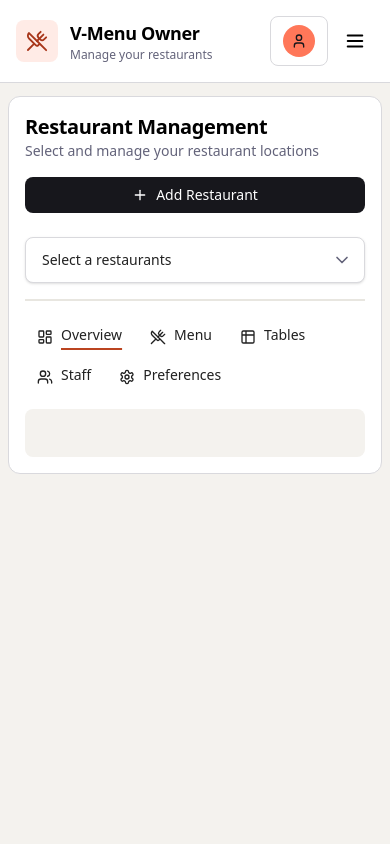
Test: the owner header (VM-20) › the phone menu shows the real name too
Click the button named "Open the menu": (355, 41) x1=336 y1=22 x2=374 y2=60
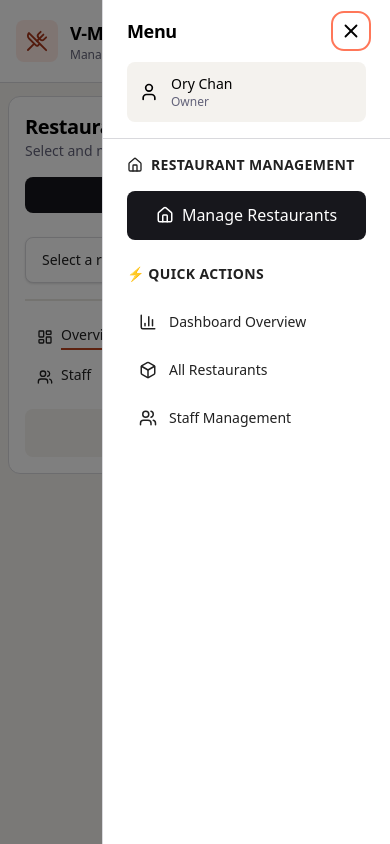
expect the text "Ory Chan" is shown 2 times: met
